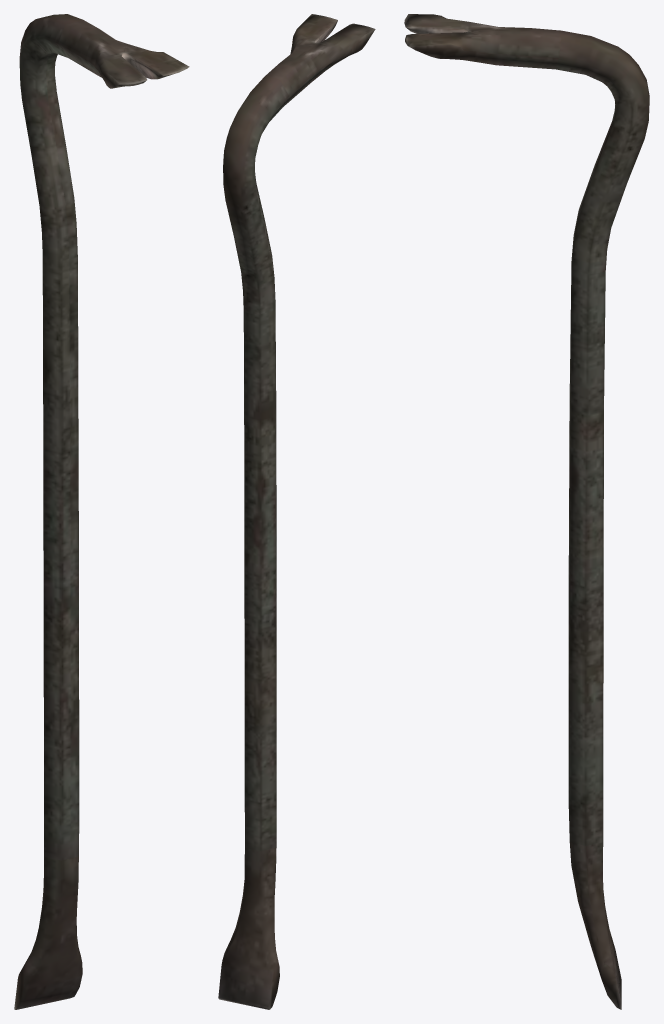
The model's file is crowbar_01.glb.
3 views of the same model, side by side, from view 1: azimuth 30°, elevation 25°; view 2: azimuth 150°, elevation 25°; view 3: azimuth 270°, elevation 25° (orthographic). The views are drawn at different scales.
Visible parts, largest first — view 1: crowbar_01; view 2: crowbar_01; view 3: crowbar_01.
Part boxes in pixels (box(x1,y1,x2,y2)): crowbar_01: box(14, 14, 189, 1009); crowbar_01: box(218, 14, 375, 1009); crowbar_01: box(404, 14, 649, 1009).
Size of the model in its own units: 0.0404 by 0.5552 by 0.1276.
1 material, 1 textured.
